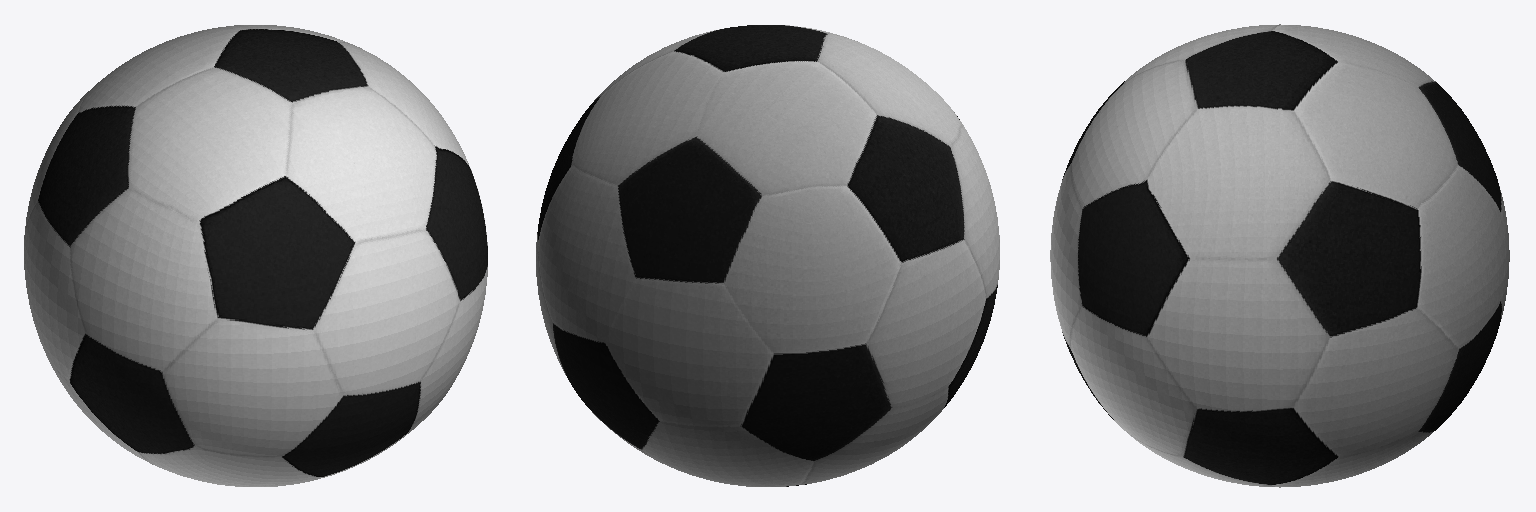
The picture shows the model from 3 angles: view 1: azimuth 30°, elevation 25°; view 2: azimuth 150°, elevation 25°; view 3: azimuth 270°, elevation 25°; orthographic projection.
Visible parts, largest first — view 1: 10536_soccerball_V1; view 2: 10536_soccerball_V1; view 3: 10536_soccerball_V1.
Part boxes in pixels (x1,y1,x2,y2): 10536_soccerball_V1: (24,25,487,486); 10536_soccerball_V1: (536,25,999,486); 10536_soccerball_V1: (1050,24,1509,487).
Size of the model in its own units: 14.51 by 14.51 by 14.51.
Materials: 1 (1 with a texture image).